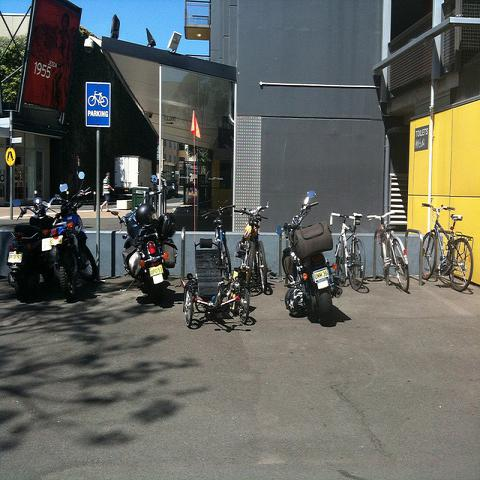motorcycle: (273, 185, 334, 331), (117, 176, 178, 303), (41, 170, 97, 302), (7, 196, 57, 301)
truck: (114, 156, 154, 192)
